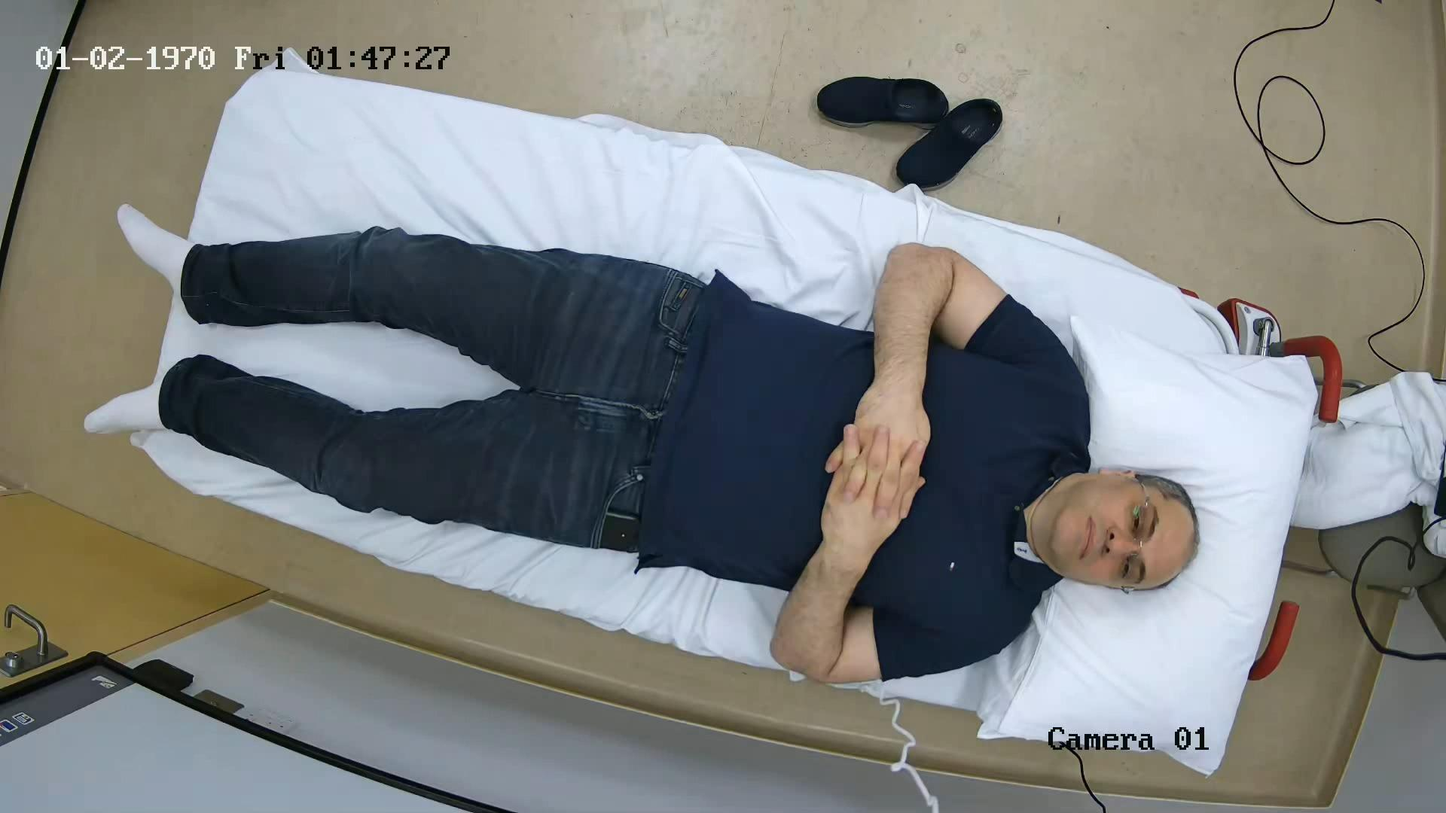bed: (135, 62, 1341, 770)
patient: (87, 206, 1197, 683)
